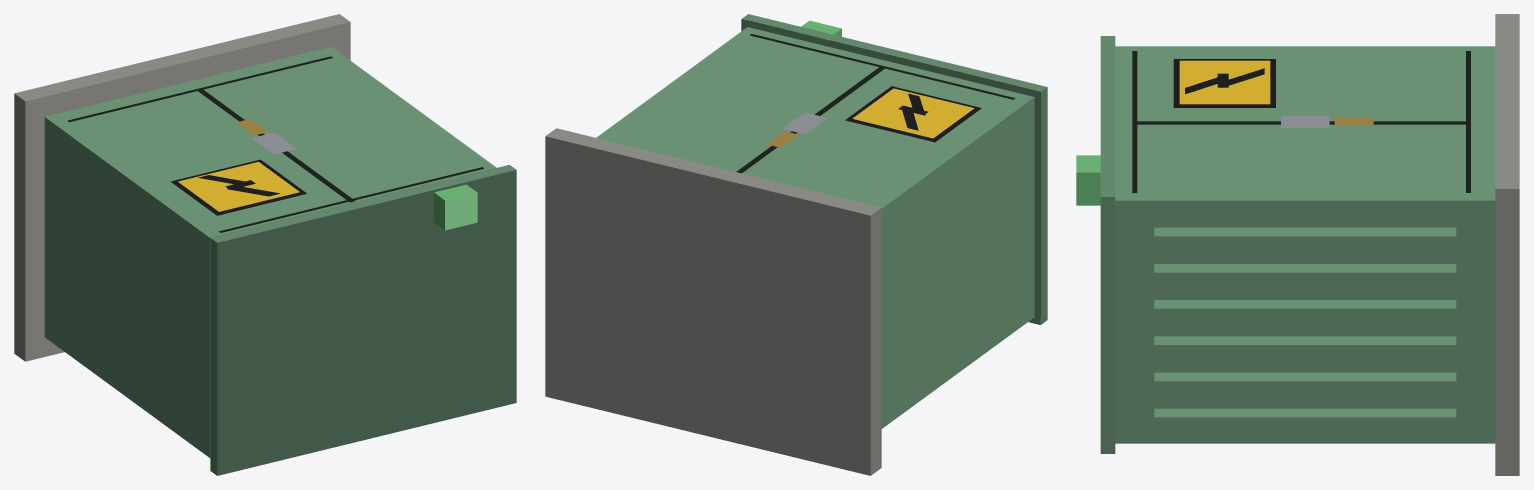
Rendered from transformer_ground_standard_on_S.obj.
3 views of the same model, side by side, from view 1: azimuth 30°, elevation 25°; view 2: azimuth 150°, elevation 25°; view 3: azimuth 270°, elevation 25° (orthographic). The views are drawn at different scales.
Parts seen in each view (by area): view 1: transformer_ground_standard_on_S; view 2: transformer_ground_standard_on_S; view 3: transformer_ground_standard_on_S.
Part boxes in pixels (x1,y1,x2,y2): transformer_ground_standard_on_S: [14, 14, 516, 475]; transformer_ground_standard_on_S: [545, 14, 1047, 475]; transformer_ground_standard_on_S: [1076, 14, 1519, 475].
Size of the model in its own units: 0.85 by 0.65 by 0.91.
Materials: 1 (1 with a texture image).
